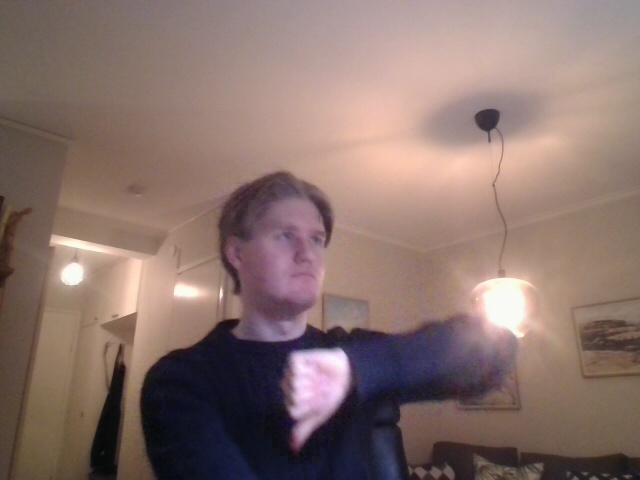ThumbsDown: (279, 347, 347, 455)
